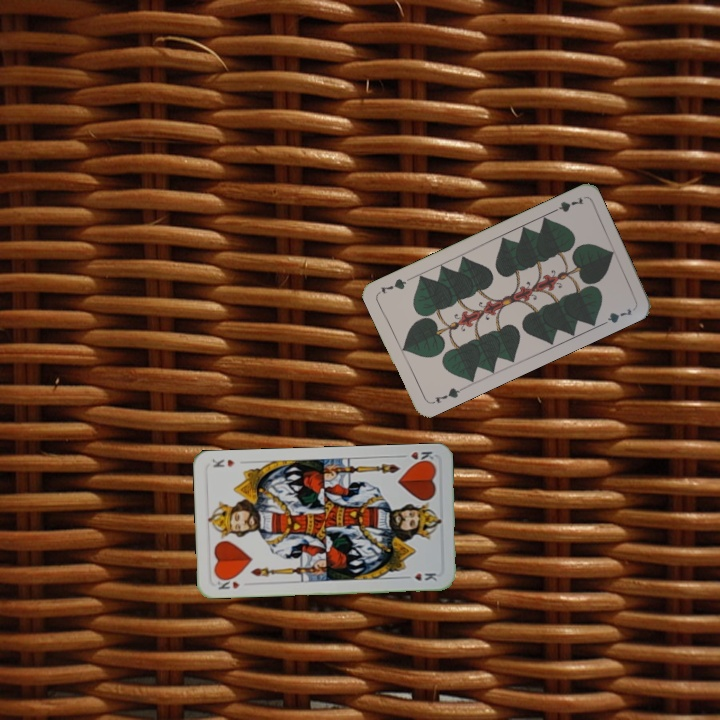G7: (427, 383, 466, 407), (546, 193, 586, 216)
HK: (396, 447, 437, 467), (213, 573, 242, 592)
